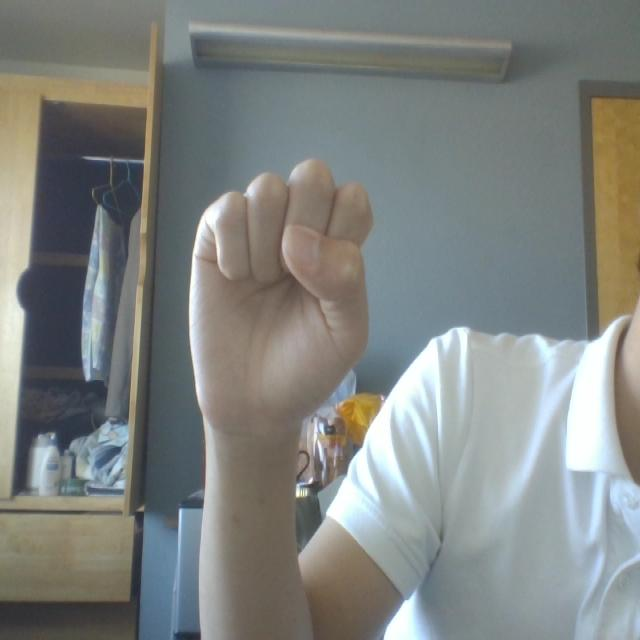S: (153, 136, 426, 519)
